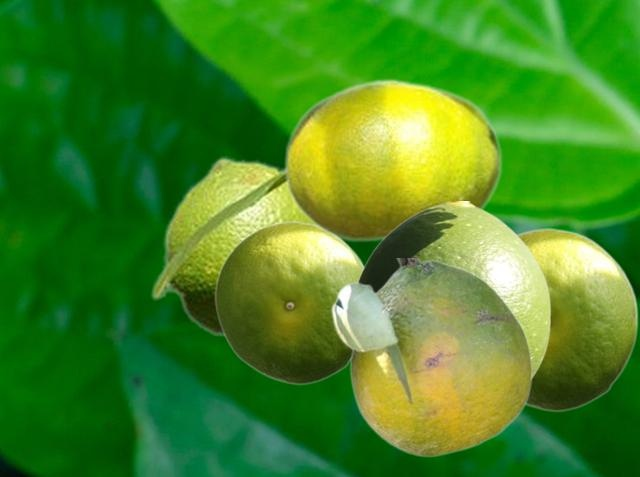dalandan: (330, 258, 532, 456), (283, 78, 501, 242), (357, 201, 550, 377), (149, 156, 307, 340), (214, 220, 364, 384), (517, 227, 637, 411)
